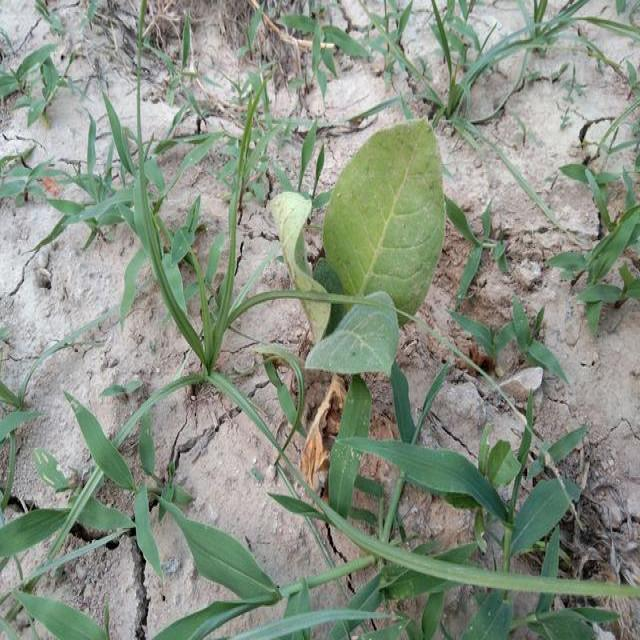crop: (275, 128, 447, 366)
